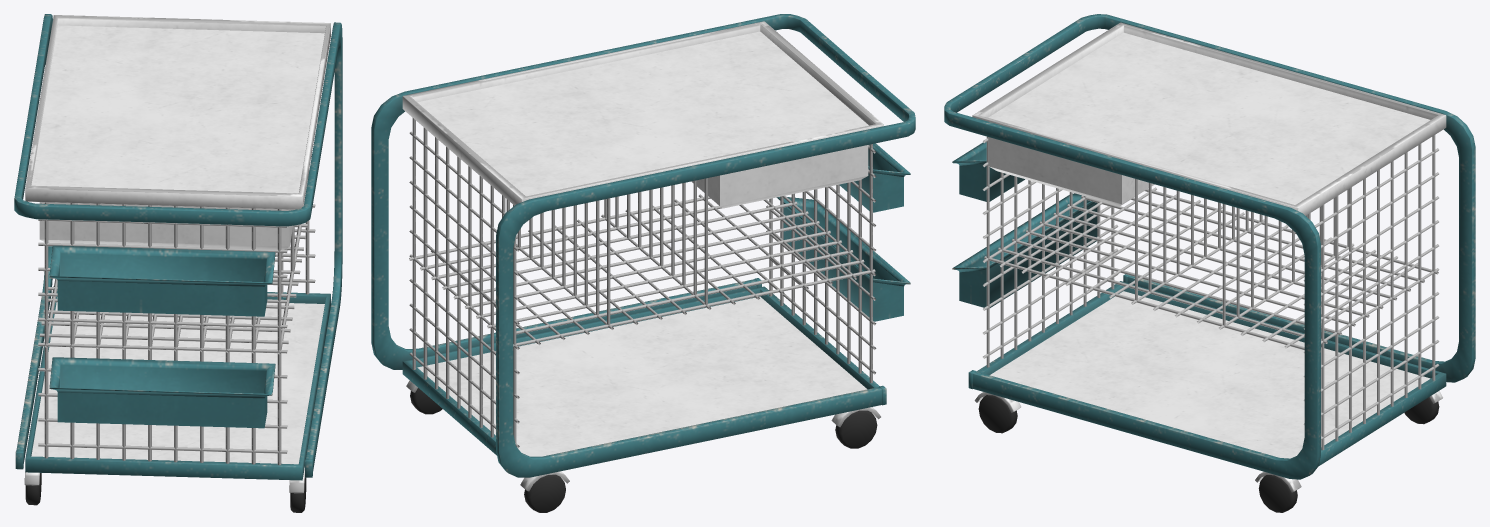
The model's file is tableSmall.fbx.
3 renders of one model, left to right at view 1: azimuth 30°, elevation 25°; view 2: azimuth 150°, elevation 25°; view 3: azimuth 270°, elevation 25°, orthographic. The views are drawn at different scales.
Visible parts, largest first — view 1: tableSmall; view 2: tableSmall; view 3: tableSmall.
Part boxes in pixels (<box>): tableSmall: <box>14,14,342,512</box>; tableSmall: <box>371,14,915,512</box>; tableSmall: <box>944,14,1475,512</box>.
Size of the model in its own units: 80.06 by 56.89 by 87.86.
